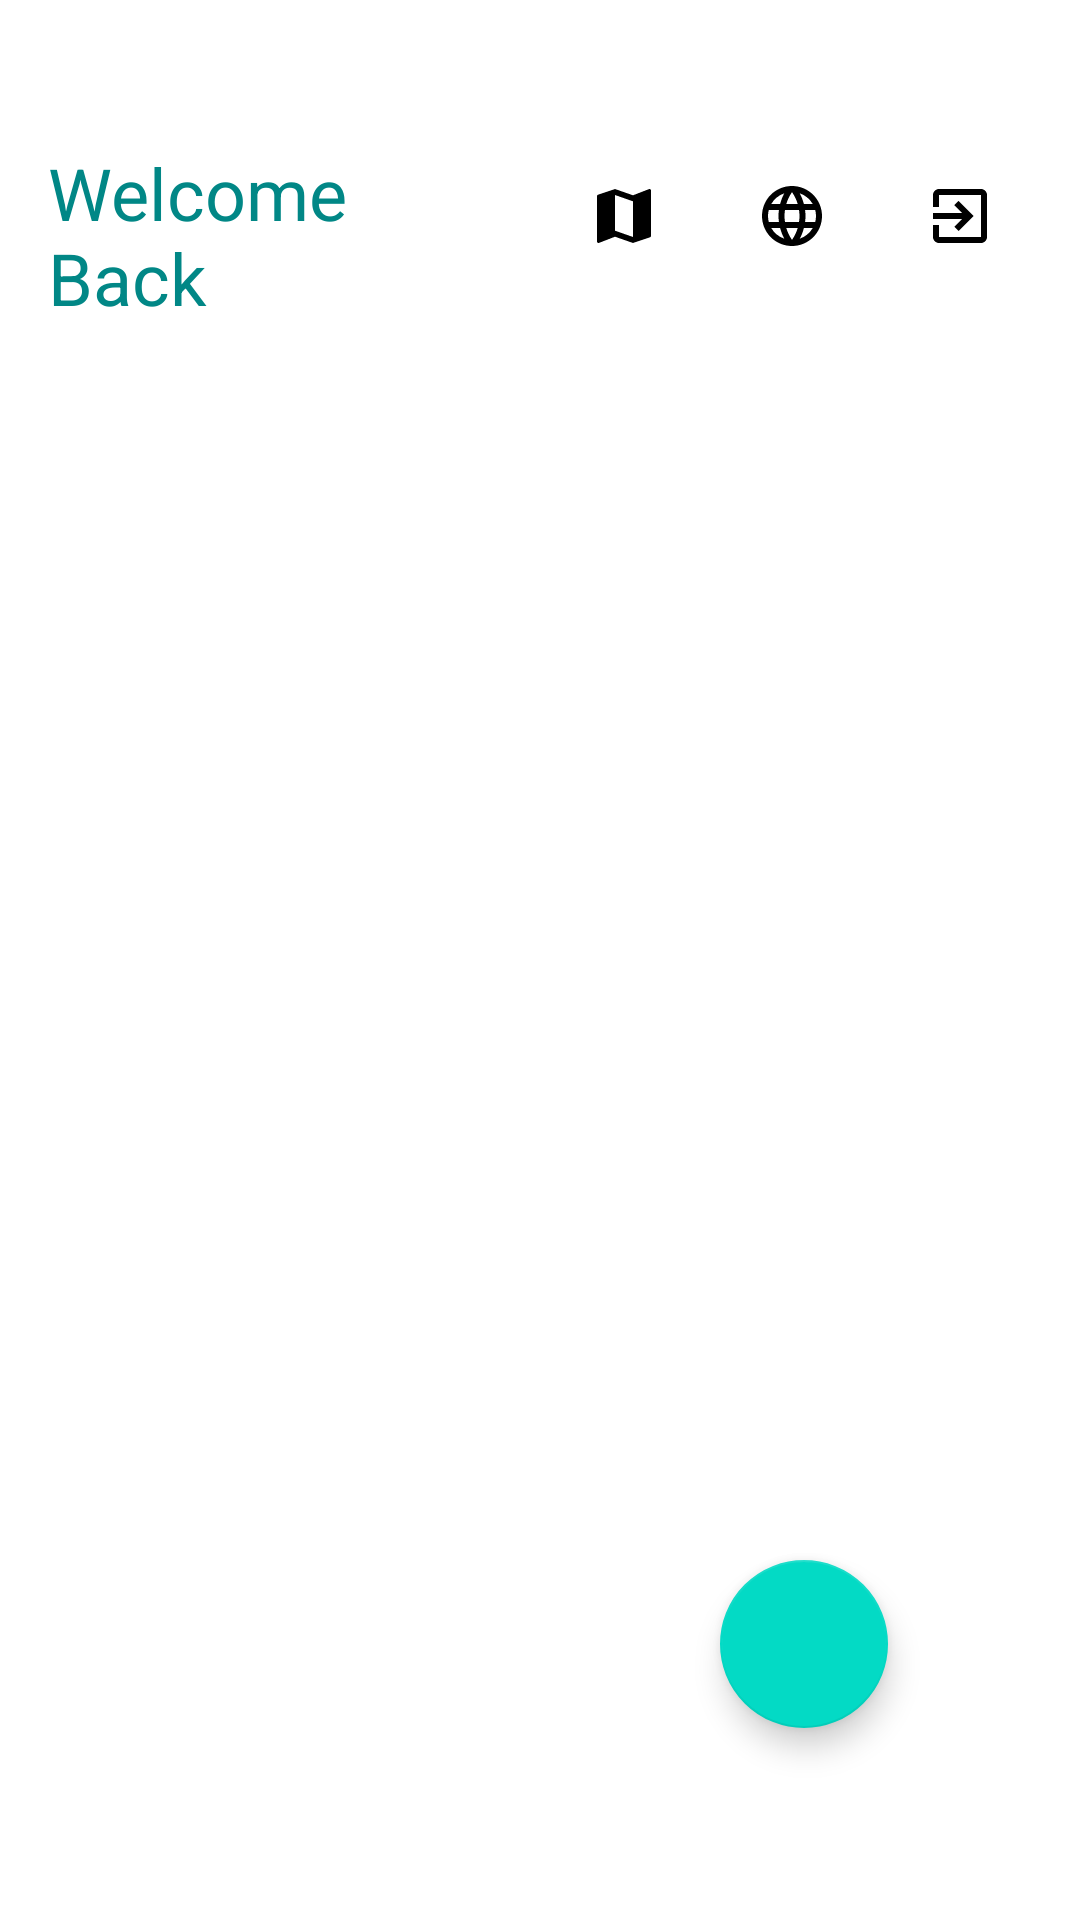

Named icons in this screenshot (1080x1920) and their centers, (x,y):
exit: (960,216)
language: (792,216)
map: (624,216)
